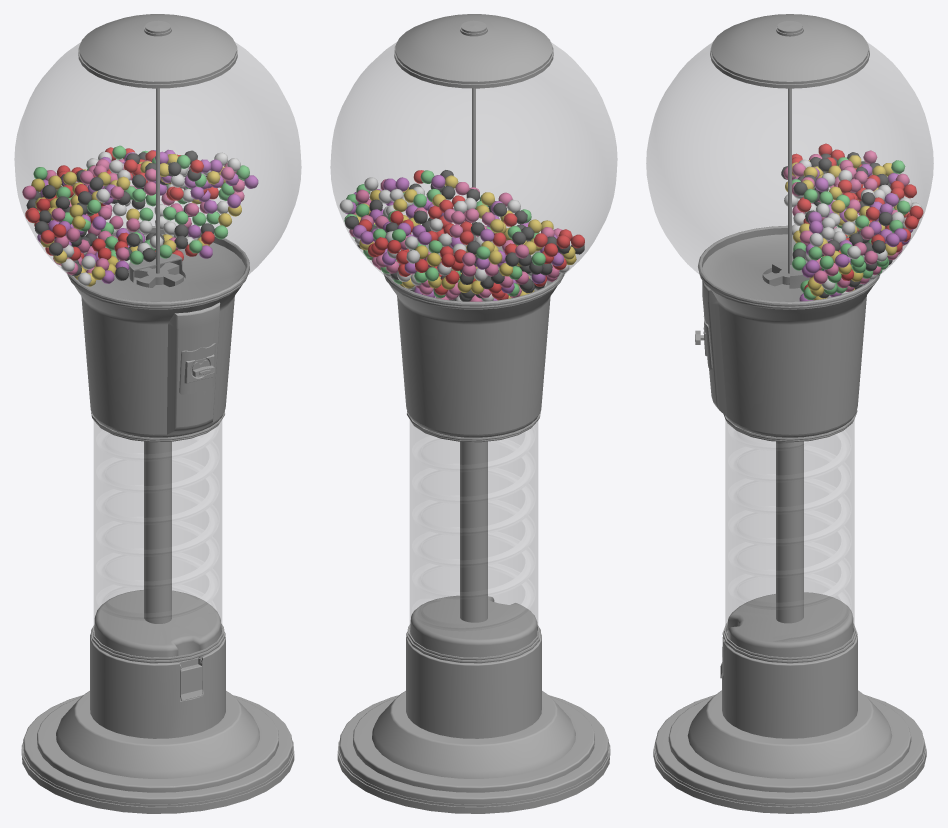
File: gumball_machine1.fbx
The picture shows the model from 3 angles, left to right: view 1: azimuth 30°, elevation 25°; view 2: azimuth 150°, elevation 25°; view 3: azimuth 270°, elevation 25°; orthographic projection.
Visible parts, largest first — view 1: polySurface2033, polySurface1558, polySurface2027; view 2: polySurface2033, polySurface1558, polySurface2027; view 3: polySurface2033, polySurface1558, polySurface2027.
Boxes of the visible parts, box(x1,y1,x2,y2) form: polySurface2033: box(14, 42, 301, 656); polySurface1558: box(21, 14, 294, 813); polySurface2027: box(22, 145, 258, 286); polySurface2033: box(330, 42, 617, 656); polySurface1558: box(337, 14, 610, 813); polySurface2027: box(339, 170, 584, 301); polySurface2033: box(646, 42, 933, 656); polySurface1558: box(653, 14, 926, 813); polySurface2027: box(781, 143, 923, 301).
Size of the model in its own units: 36.06 by 101 by 36.05.
